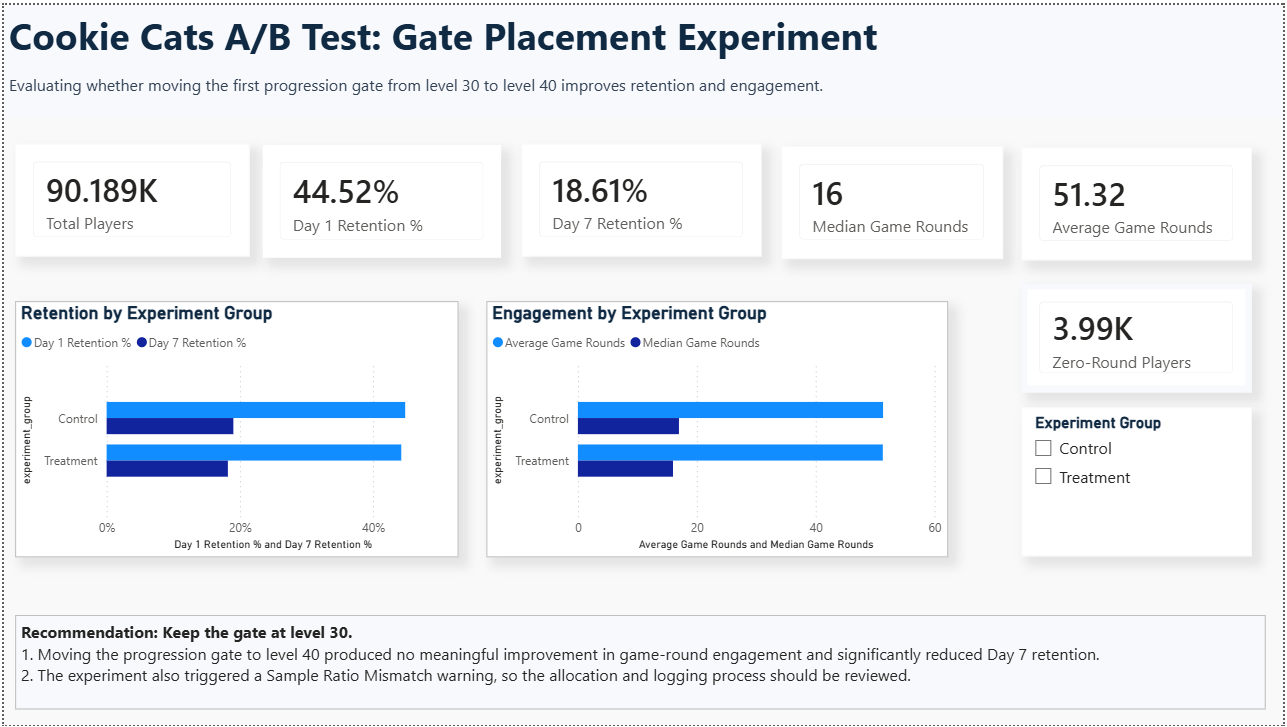

The page's visual inventory and layout, read from the dashboard file:
{"tool":"powerbi","page":{"name":"Executive Summary","canvas":[1280,720],"ordinal":0},"visuals":[{"type":"cardVisual","fields":{"Data":["Player Detail.Total Players"]},"box":[11.4,138.6,234.3,112.9],"z":0},{"type":"cardVisual","fields":{"Data":["Player Detail.Day 1 Retention %"]},"box":[258.6,140,238.6,112.9],"z":1000},{"type":"cardVisual","fields":{"Data":["Player Detail.Day 7 Retention %"]},"box":[517.1,138.6,240,112.9],"z":2000},{"type":"cardVisual","fields":{"Data":["Player Detail.Average Game Rounds"]},"box":[1017.1,142.9,230,112.9],"z":3000},{"type":"cardVisual","fields":{"Data":["Player Detail.Median Game Rounds"]},"box":[777.1,141.4,221.4,112.9],"z":4000},{"type":"cardVisual","fields":{"Data":["Player Detail.Zero-Round Players"]},"box":[1017.1,278.6,230,108.6],"z":5000},{"type":"slicer","fields":{"Values":["Experiment Groups.experiment_group"]},"box":[1017.1,402.9,230,148.6],"z":6000},{"type":"clusteredBarChart","title":"Retention by Experiment Group","fields":{"Category":["Experiment Groups.experiment_group"],"Y":["Player Detail.Day 1 Retention %","Player Detail.Day 7 Retention %"]},"box":[11.4,295.7,442.9,255.7],"z":7000},{"type":"clusteredBarChart","title":"Engagement by Experiment Group","fields":{"Category":["Experiment Groups.experiment_group"],"Y":["Player Detail.Average Game Rounds","Player Detail.Median Game Rounds"]},"box":[482.9,295.7,461.4,255.7],"z":8000},{"type":"textbox","box":[11.4,610,1250,94.3],"z":9000},{"type":"textbox","box":[0,0,1280,64.3],"z":10000},{"type":"textbox","box":[0,64.3,1280,48.6],"z":11000}]}

Visuals, with their boxes in screenshot pixels (x1, y1, x2, y2), scaled from the page's 1280x720 canvas onto the 1287x727 screenshot:
cardVisual - Player Detail.Total Players: region(11, 140, 247, 254)
cardVisual - Player Detail.Day 1 Retention %: region(260, 141, 500, 255)
cardVisual - Player Detail.Day 7 Retention %: region(520, 140, 761, 254)
cardVisual - Player Detail.Average Game Rounds: region(1023, 144, 1254, 258)
cardVisual - Player Detail.Median Game Rounds: region(781, 143, 1004, 257)
cardVisual - Player Detail.Zero-Round Players: region(1023, 281, 1254, 391)
slicer - Experiment Groups.experiment_group: region(1023, 407, 1254, 557)
"Retention by Experiment Group" clusteredBarChart: region(11, 299, 457, 557)
"Engagement by Experiment Group" clusteredBarChart: region(486, 299, 949, 557)
textbox: region(11, 616, 1268, 711)
textbox: region(0, 0, 1286, 65)
textbox: region(0, 65, 1286, 114)
